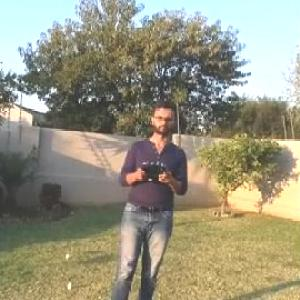follow: (106, 95, 192, 299)
